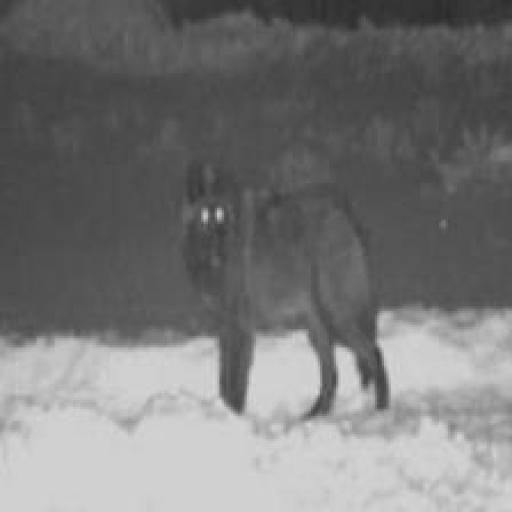wolf: (178, 153, 400, 438)
